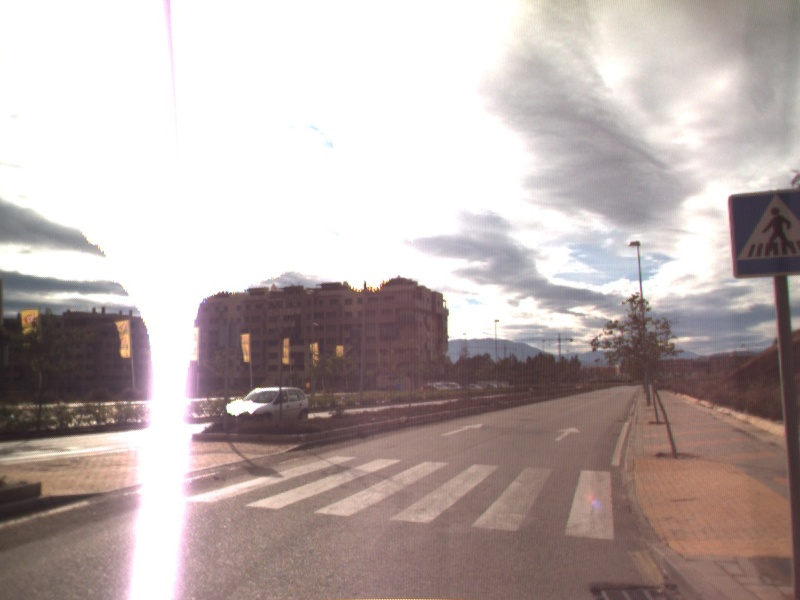STRAIGHT: (439, 421, 485, 438), (552, 424, 583, 443)
